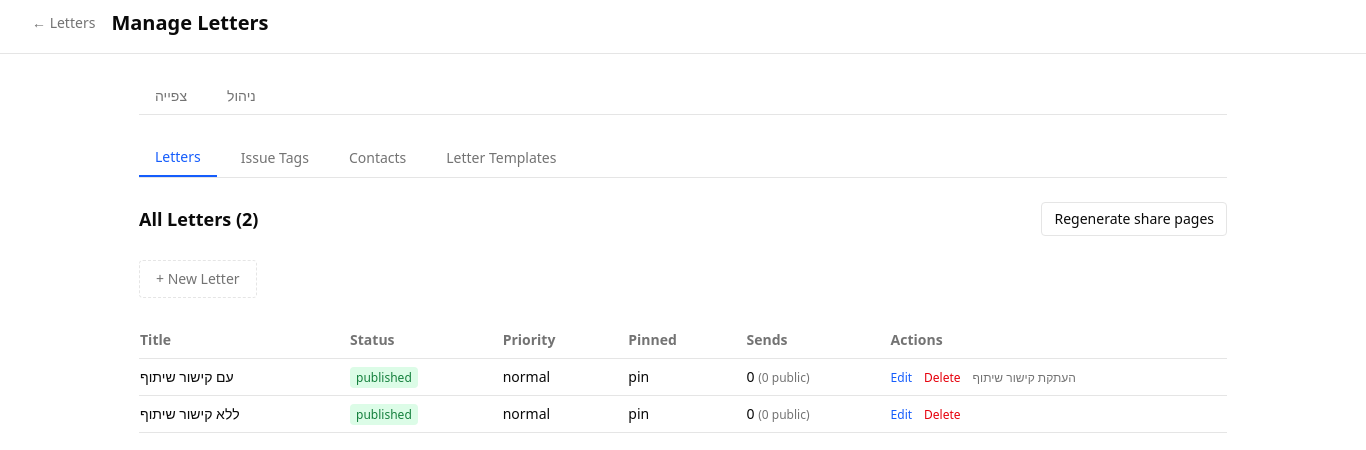
Test case: admin contacts tab › shows an inline "in use" message on a 409 delete and keeps the contact
Click the button "Contacts". click: click(378, 158)
box: left=333, top=139, right=422, bottom=177
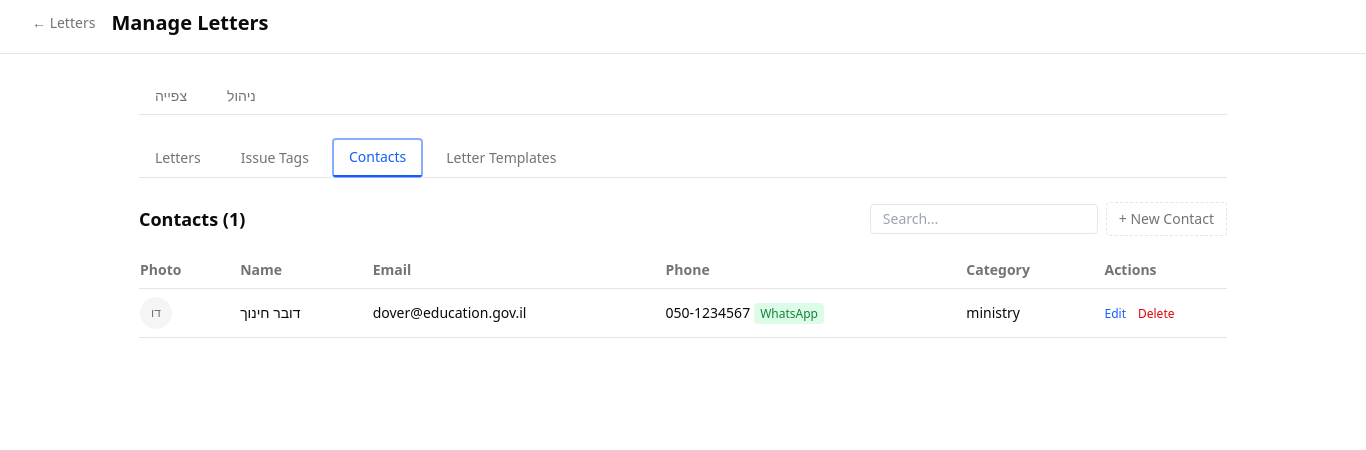
Expected: the text "דובר חינוך" is shown, left=239, top=288, right=372, bottom=338
Click the button "Delete". click: click(1156, 314)
box: left=1138, top=306, right=1174, bottom=322
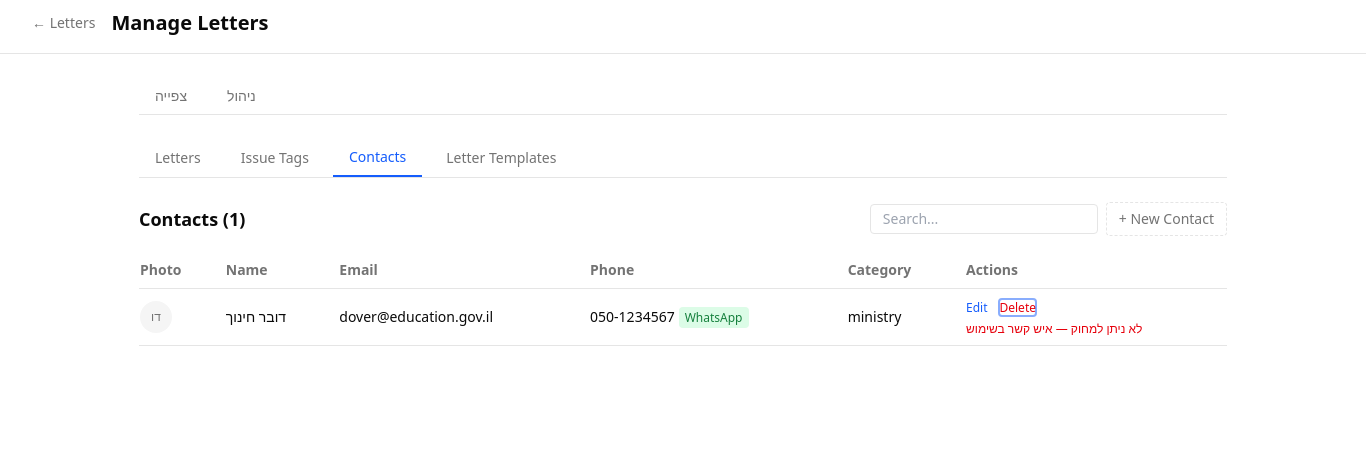
Expected: the text "דובר חינוך" is shown, left=225, top=288, right=338, bottom=346
Expected: the text "לא ניתן למחוק — איש קשר בשימוש" is shown, left=966, top=320, right=1142, bottom=337
